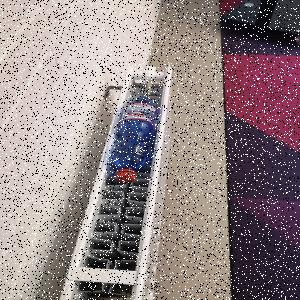Plastic-bottle: (111, 96, 161, 184)
